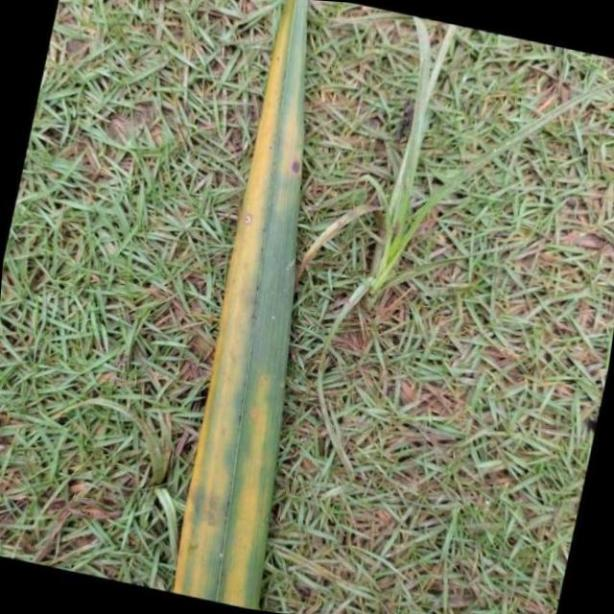Megnesium: (173, 0, 310, 614)
